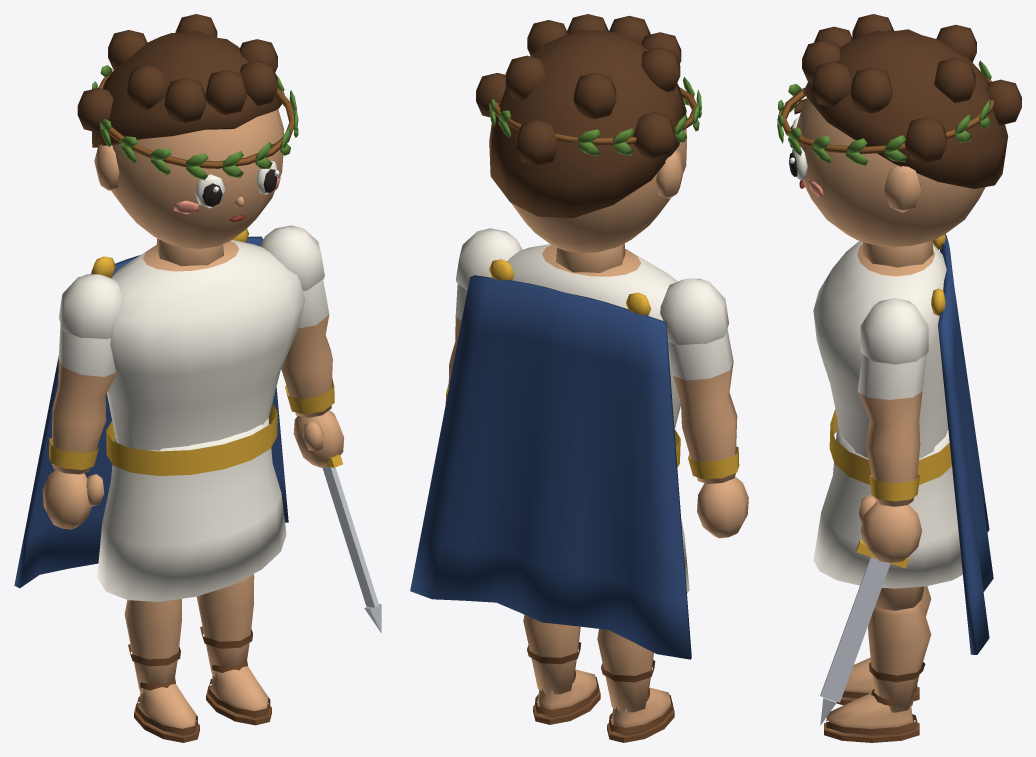
The model's file is theseus.glb.
3 renders of one model, left to right at view 1: azimuth 30°, elevation 25°; view 2: azimuth 150°, elevation 25°; view 3: azimuth 270°, elevation 25°, orthographic. The views are drawn at different scales.
Visible parts, largest first — view 1: rumpf, huefte, haare, kopf, armL, armR, umhang, knieL, knieR, kopfschmuck, itemR, augeL; view 2: umhang, haare, armL, kopf, rumpf, knieL, knieR, armR, kopfschmuck; view 3: haare, rumpf, armR, kopf, huefte, umhang, knieR, itemR, kopfschmuck, knieL, beinR, augeR.
Boxes of the visible parts, box(x1,y1,x2,y2) form: rumpf: box(106, 240, 305, 475); huefte: box(97, 418, 286, 601); haare: box(77, 14, 282, 147); kopf: box(94, 109, 283, 266); armL: box(42, 274, 124, 529); armR: box(260, 225, 344, 467); umhang: box(14, 229, 288, 588); knieL: box(124, 598, 199, 742); knieR: box(197, 574, 271, 725); kopfschmuck: box(92, 65, 298, 180); itemR: box(322, 454, 381, 632); augeL: box(194, 174, 225, 208); umhang: box(410, 259, 691, 659); haare: box(476, 14, 686, 218); armL: box(660, 278, 748, 538); kopf: box(511, 129, 687, 272); rumpf: box(507, 244, 680, 467); knieL: box(597, 629, 674, 742); knieR: box(523, 614, 600, 724); armR: box(445, 228, 522, 403); kopfschmuck: box(489, 77, 701, 156); haare: box(802, 14, 1021, 188); rumpf: box(813, 241, 951, 484); armR: box(857, 298, 928, 562); kopf: box(796, 98, 985, 267); huefte: box(813, 422, 962, 588); umhang: box(931, 234, 993, 654); knieR: box(824, 600, 931, 742); itemR: box(820, 540, 908, 725); kopfschmuck: box(777, 60, 993, 165); knieL: box(836, 586, 931, 705); beinR: box(875, 586, 924, 610); augeR: box(789, 146, 807, 179).
Bounding box in the file's own units: 1.09 × 2.3 × 0.7535.
